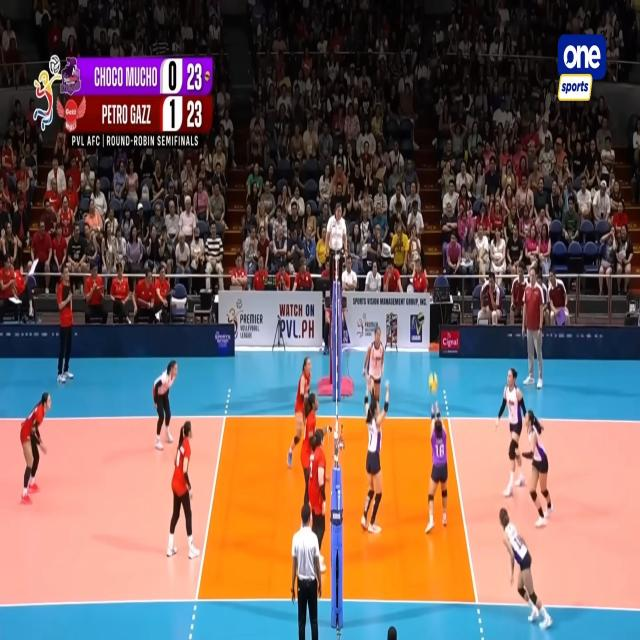Volleyball-Ball: (429, 370, 438, 394)
